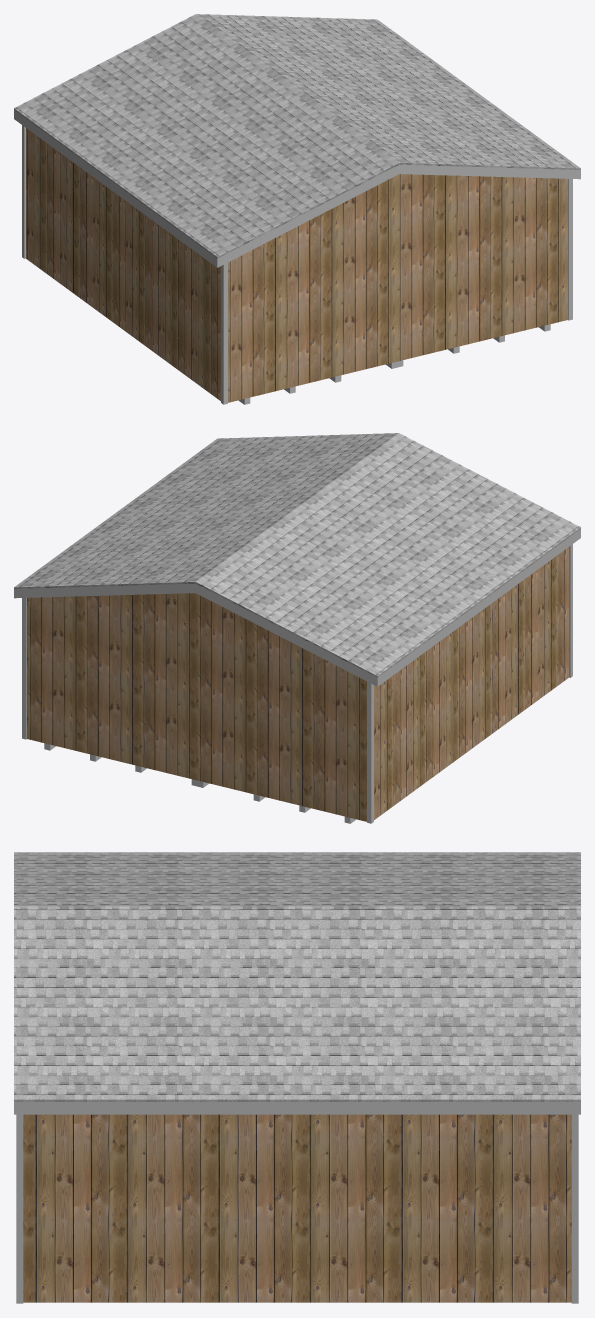
Rendered from Double Garage 3-12 PITCH ROOF_20x20.obj.
The picture shows the model from 3 angles, top to bottom: view 1: azimuth 30°, elevation 25°; view 2: azimuth 150°, elevation 25°; view 3: azimuth 270°, elevation 25°; orthographic projection. The views are drawn at different scales.
Visible parts, largest first — view 1: Shed, Roof, Sides, Trim; view 2: Shed, Roof, Sides, Trim; view 3: Roof, Shed, Sides, Trim.
Part boxes in pixels (box(x1,y1,x2,y2)): Shed: box(26, 128, 567, 402); Roof: box(14, 14, 580, 258); Sides: box(14, 110, 580, 267); Trim: box(22, 125, 572, 404); Shed: box(27, 547, 568, 821); Roof: box(14, 433, 580, 677); Sides: box(14, 529, 580, 686); Trim: box(22, 544, 572, 823); Roof: box(14, 852, 580, 1101); Shed: box(23, 1114, 571, 1302); Sides: box(14, 1102, 580, 1114); Trim: box(16, 1114, 578, 1303).
Size of the model in its own units: 6.4 by 3.46 by 6.2.
